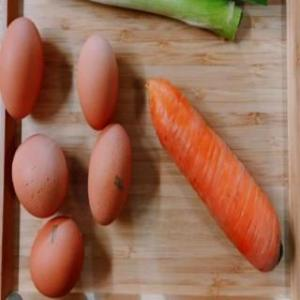carrot: (148, 76, 282, 278)
egg: (1, 15, 49, 126), (11, 132, 71, 220), (87, 122, 133, 226), (28, 211, 86, 293), (78, 32, 122, 128)
